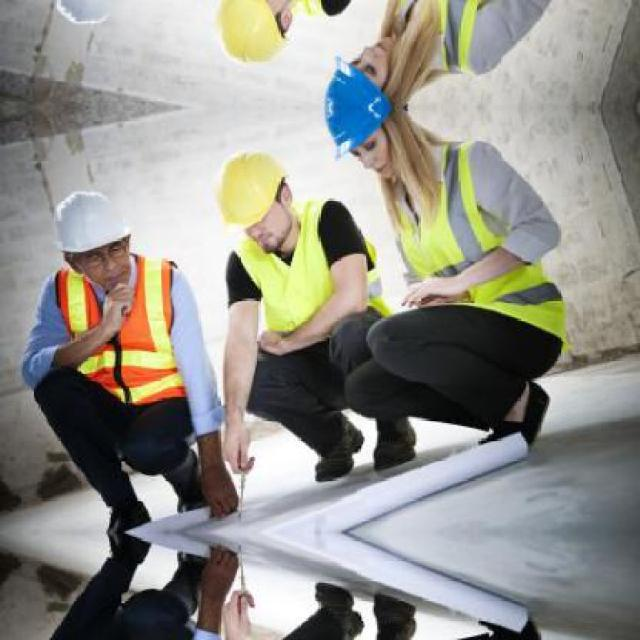helmet: (47, 182, 135, 296), (216, 148, 310, 246), (316, 36, 438, 106), (316, 107, 438, 176), (215, 0, 311, 66), (46, 0, 135, 32)
